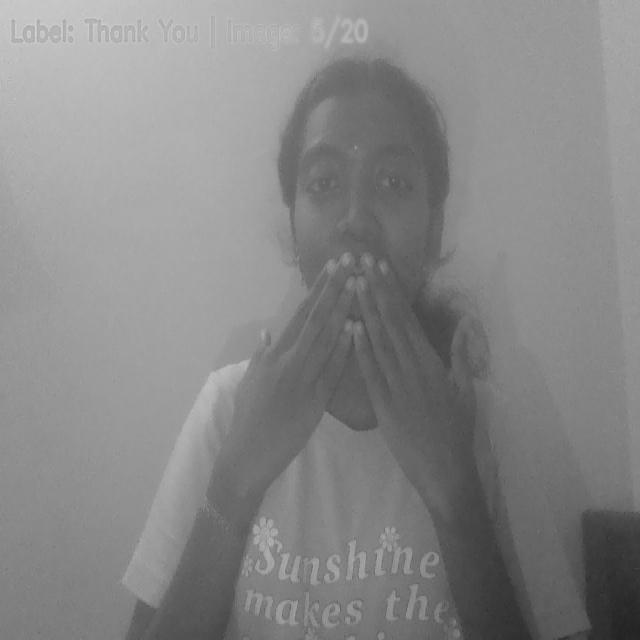Thank You: (227, 249, 494, 518)
